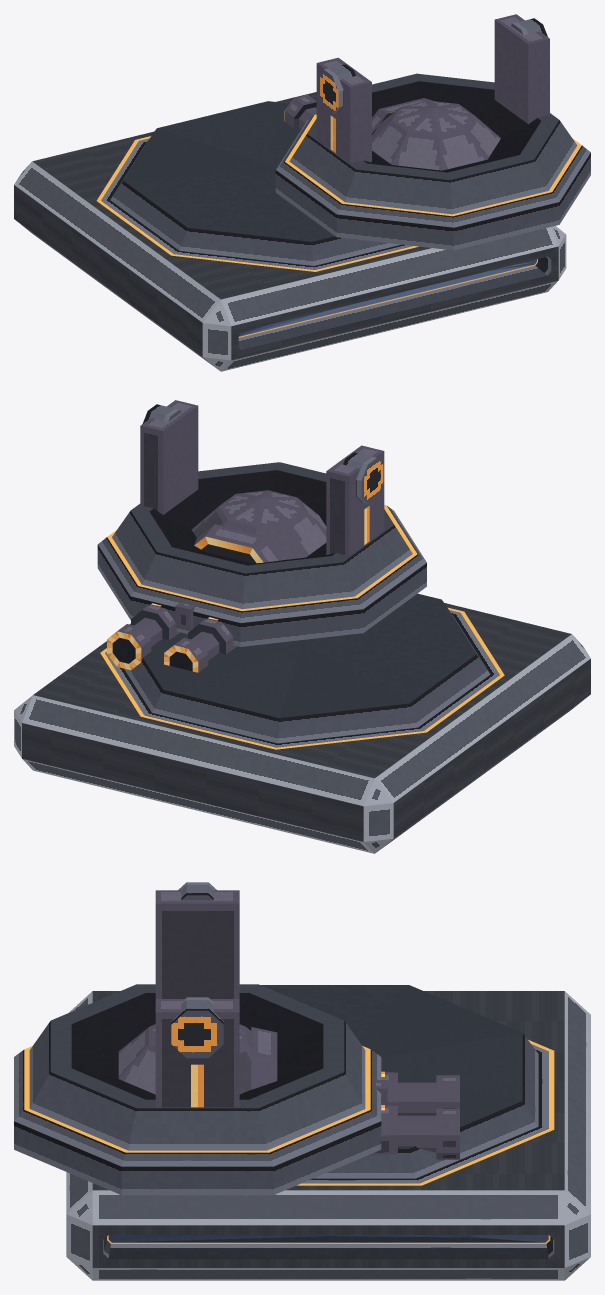
File: marlit_gun.glb
3 views of the same model, one above another, from view 1: azimuth 30°, elevation 25°; view 2: azimuth 150°, elevation 25°; view 3: azimuth 270°, elevation 25° (orthographic). The views are drawn at different scales.
Visible parts, largest first — view 1: marlit_gun_base, marlit_gun_yaw, marlit_gun_head; view 2: marlit_gun_base, marlit_gun_yaw, marlit_gun_head; view 3: marlit_gun_base, marlit_gun_yaw, marlit_gun_head.
Part boxes in pixels (x1,y1,x2,y2): marlit_gun_base: (14,92,566,371); marlit_gun_yaw: (275,14,590,250); marlit_gun_head: (284,95,500,170); marlit_gun_base: (14,593,590,853); marlit_gun_yaw: (97,400,426,646); marlit_gun_head: (107,490,326,672); marlit_gun_base: (66,985,590,1280); marlit_gun_yaw: (14,882,381,1195); marlit_gun_head: (118,1024,459,1159).
Bounding box in the file's own units: 2.2 × 1.22 × 2.2.
Materials: 1 (1 with a texture image).
